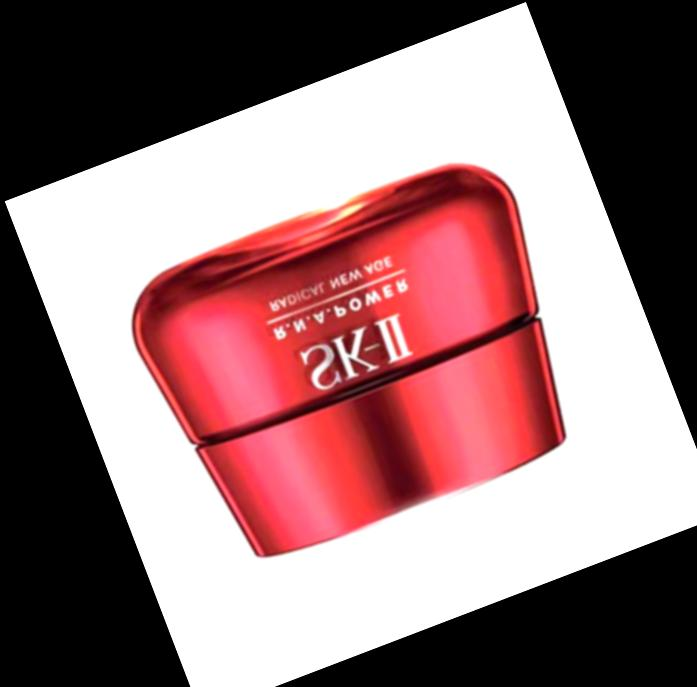cosmetic: (127, 154, 595, 576)
